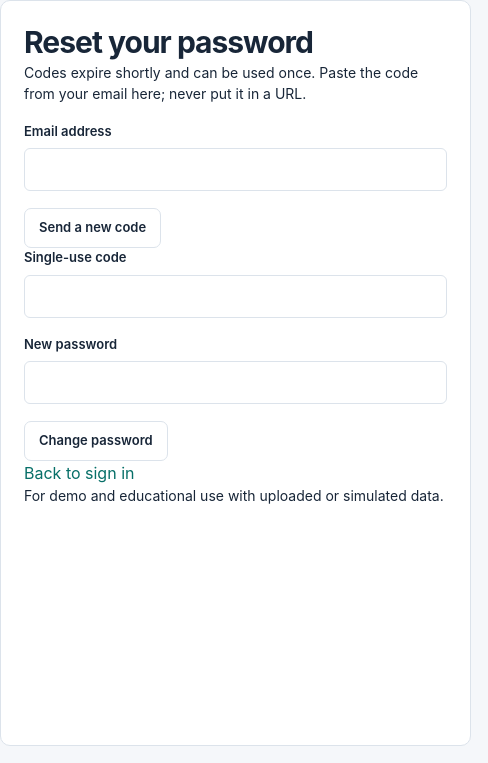
Test: recovery shows generic delivery result and accessible code form
The image size is (488, 763).
Type "missing@example.org" into the field labelled "Email address" at (236, 170), box [24,148,447,191]
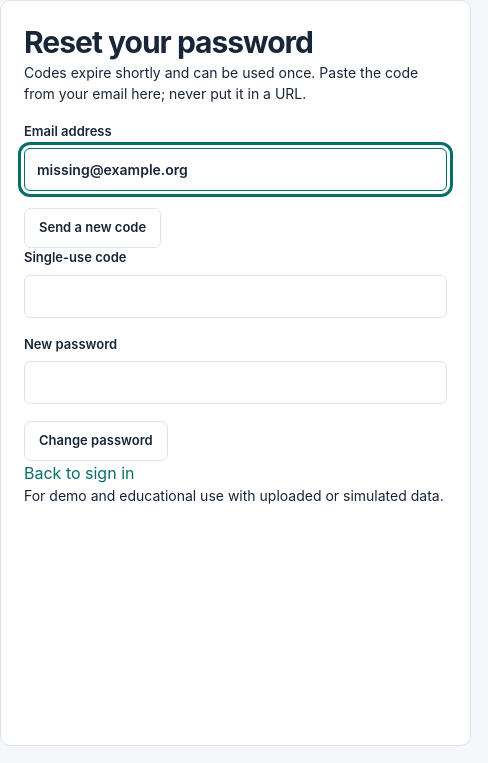
Click the button "Send a new code" at (93, 228), box [24,208,161,248]
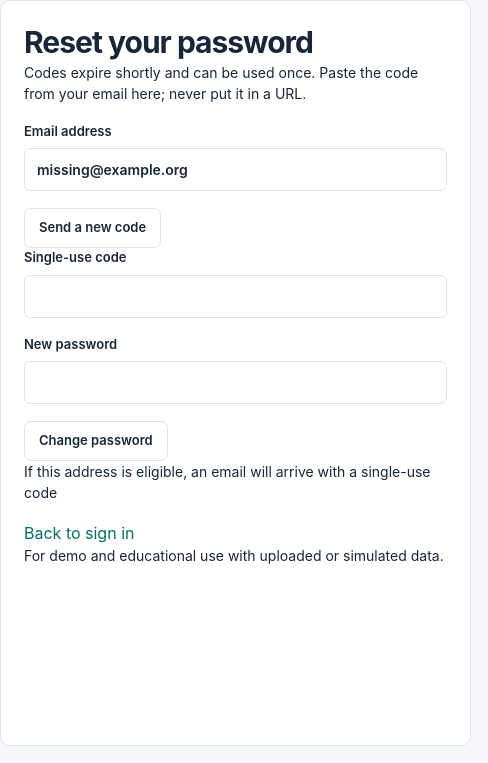
Expected: the message shows "If this address is eligible", [24,463,430,501]
